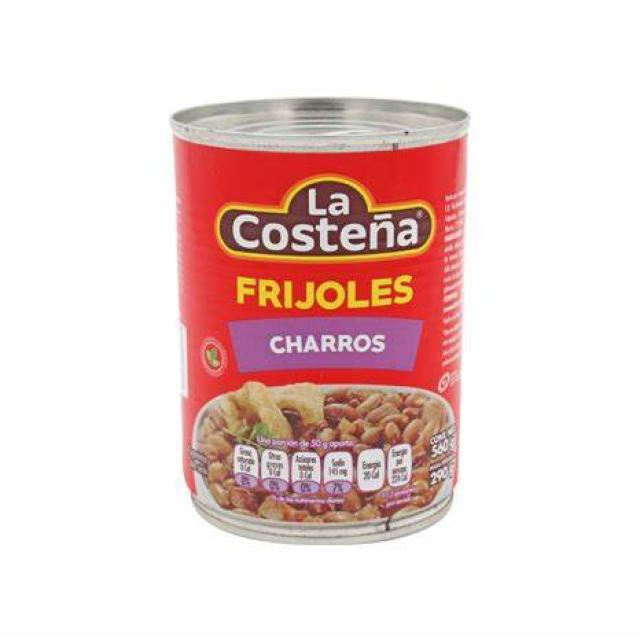Lata: (170, 98, 462, 540)
